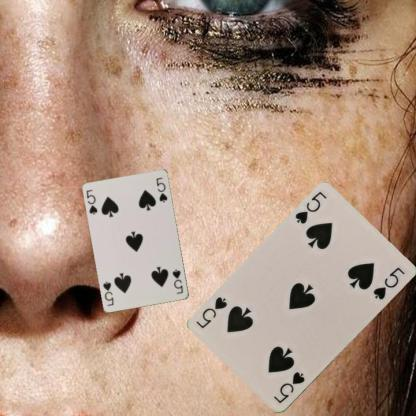5s: (292, 189, 328, 226), (271, 369, 306, 405), (84, 187, 99, 216), (170, 267, 184, 295)
